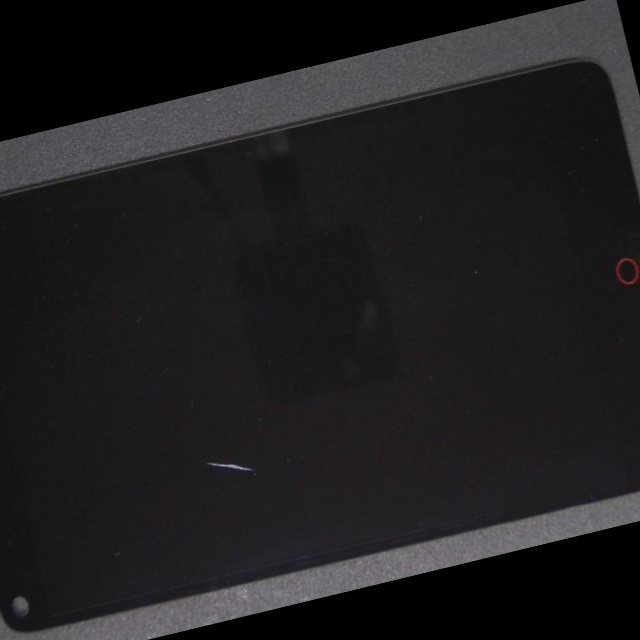scratch: (107, 263, 417, 631)
